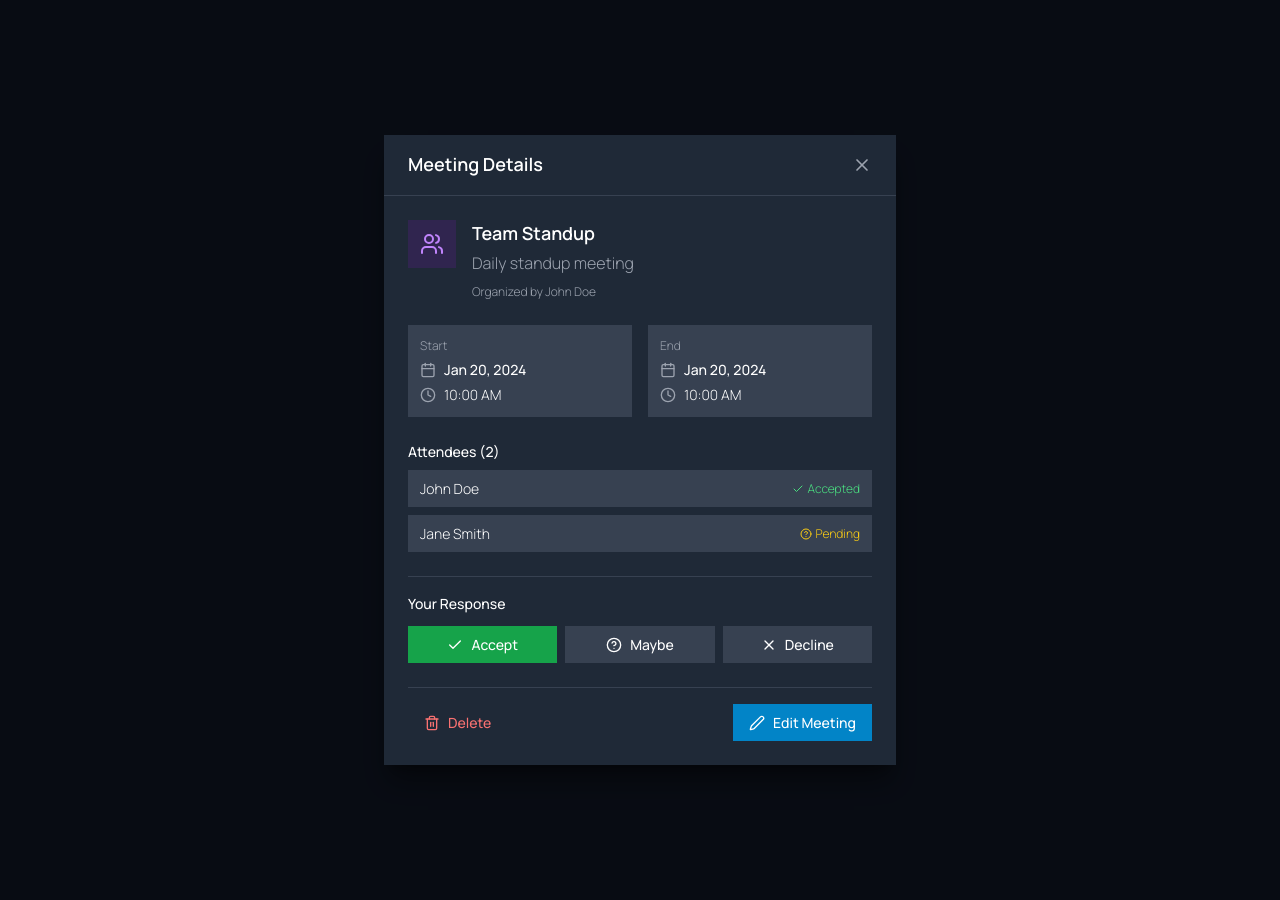
Test: ViewMeetingModal › edit mode › enters edit mode when edit button is clicked
This screenshot has width=1280, height=900.
What coordinates should you click on to do the following:
click the button "Edit Meeting"
I would click on:
 (802, 722)
Its box is [733, 704, 872, 741].
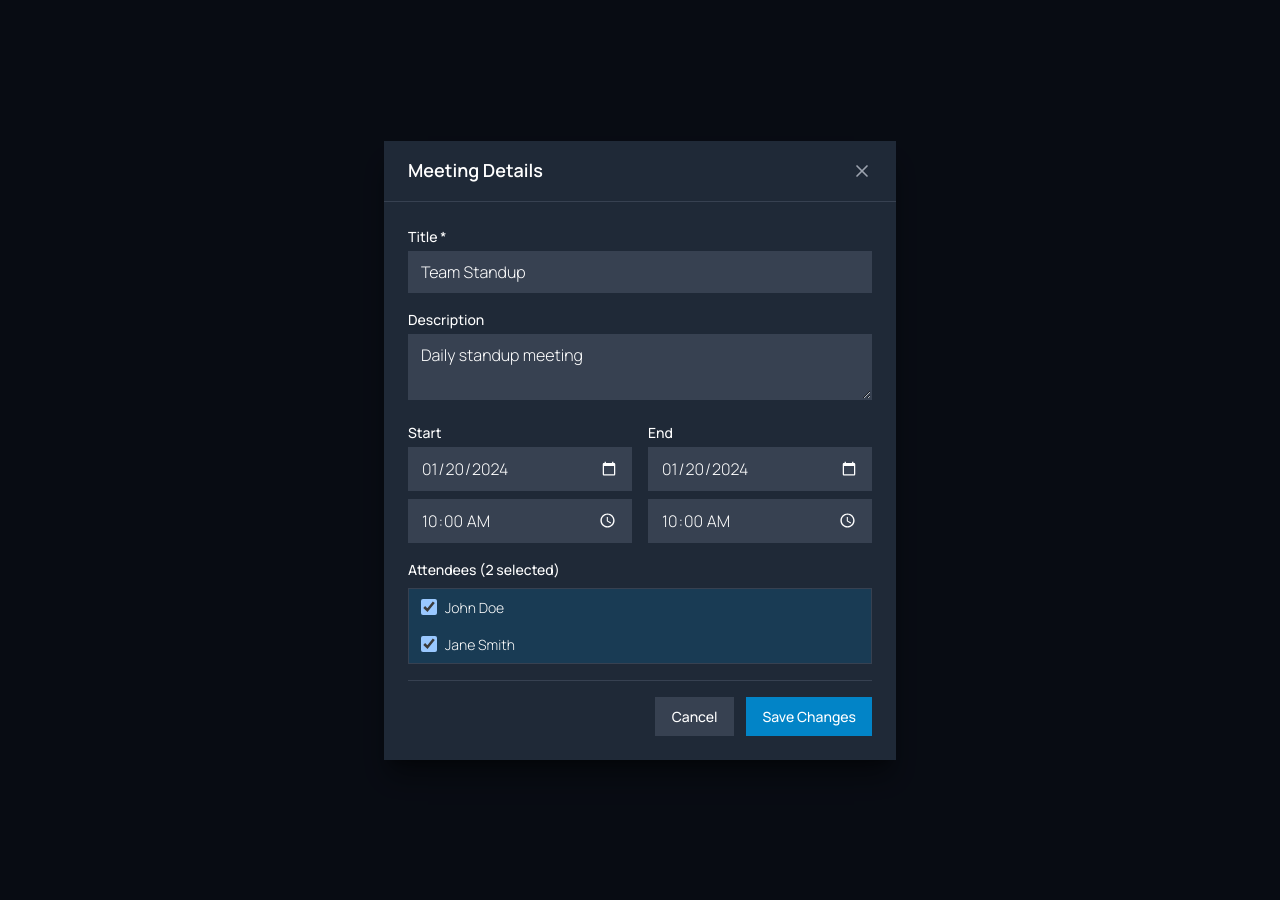
Check: the field showing "Team Standup" is shown, box [408, 250, 872, 292]
